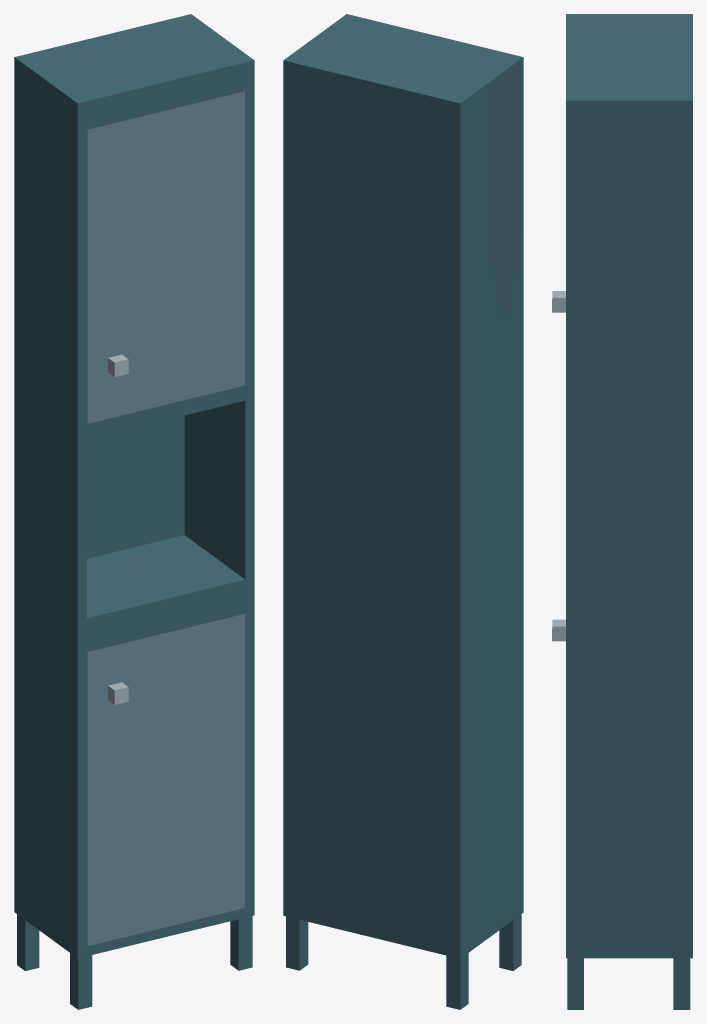
File: SM_closet_002.FBX
The picture shows the model from 3 angles, left to right: view 1: azimuth 30°, elevation 25°; view 2: azimuth 150°, elevation 25°; view 3: azimuth 270°, elevation 25°; orthographic projection.
Visible parts, largest first — view 1: SM_closet_002; view 2: SM_closet_002; view 3: SM_closet_002.
Boxes of the visible parts, bbox=[...] form: SM_closet_002: bbox=[14, 14, 254, 1009]; SM_closet_002: bbox=[283, 14, 523, 1009]; SM_closet_002: bbox=[552, 14, 692, 1009].
Bounding box in the file's own units: 39.99 × 27.49 × 196.
